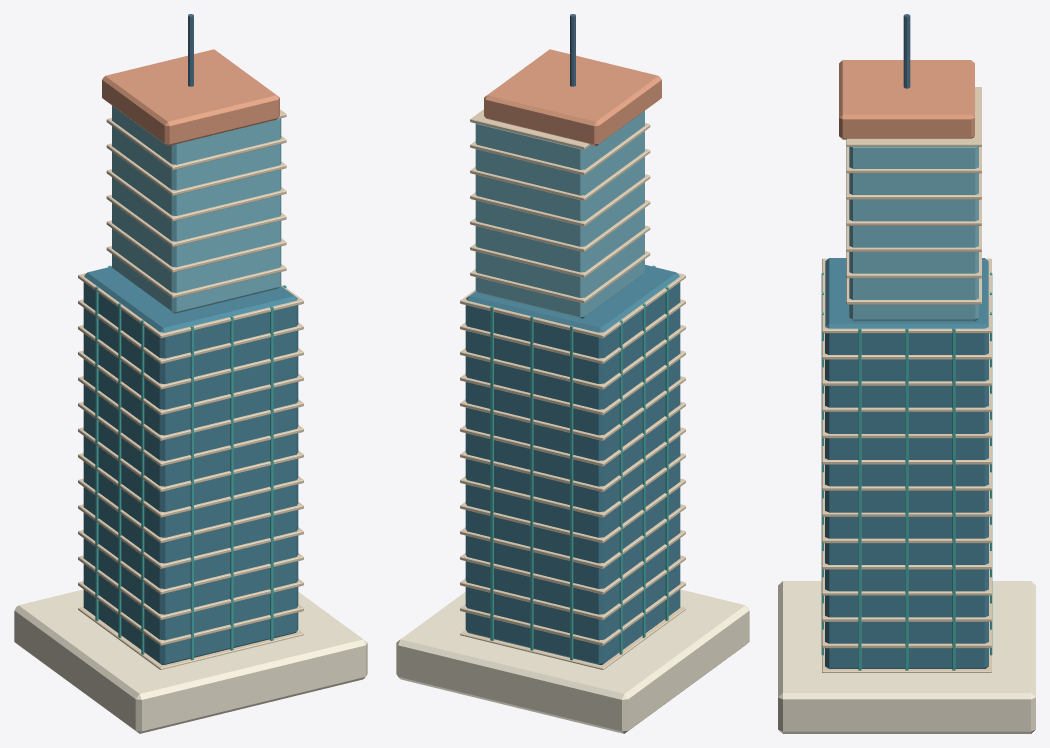
File: RES_TOWER_3x3_002.glb
3 views of the same model, side by side, from view 1: azimuth 30°, elevation 25°; view 2: azimuth 150°, elevation 25°; view 3: azimuth 270°, elevation 25° (orthographic). The views are drawn at different scales.
Visible parts, largest first — view 1: RES_TOWER_3x3_002_Visual; view 2: RES_TOWER_3x3_002_Visual; view 3: RES_TOWER_3x3_002_Visual.
Part boxes in pixels (box(x1,y1,x2,y2)): RES_TOWER_3x3_002_Visual: box(14, 14, 367, 733); RES_TOWER_3x3_002_Visual: box(396, 14, 749, 733); RES_TOWER_3x3_002_Visual: box(778, 14, 1035, 733).
Size of what is drawn, in the model's own units: 4.55 by 12.12 by 4.28.
